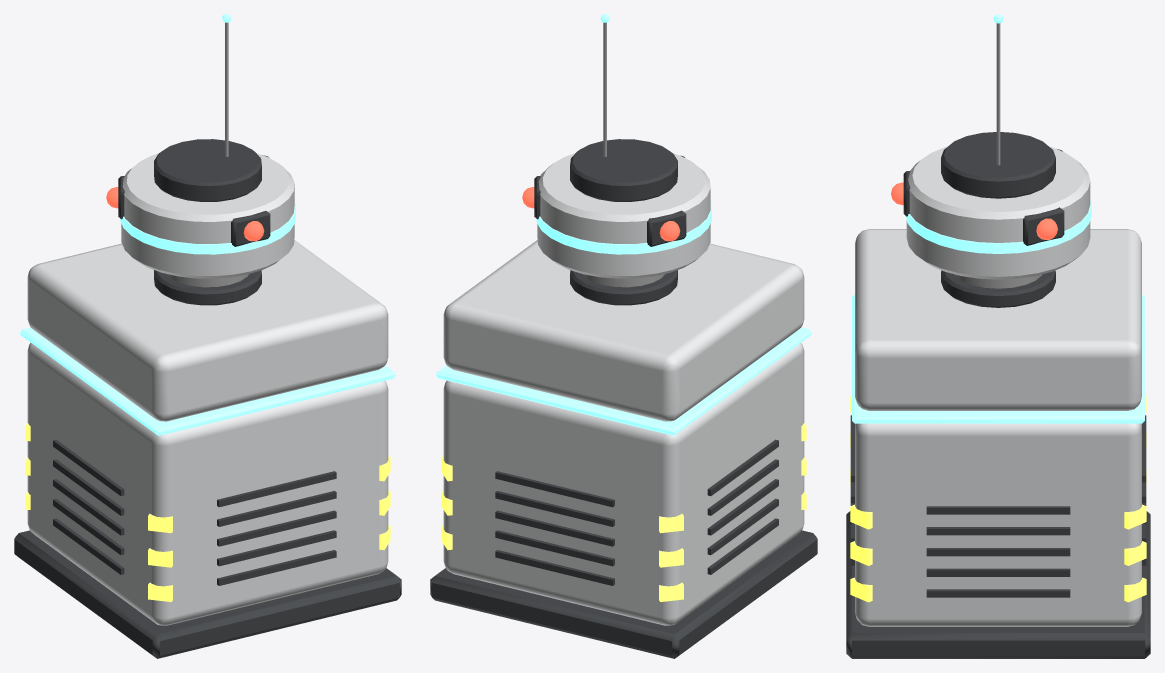
File: pylon.glb
3 renders of one model, left to right at view 1: azimuth 30°, elevation 25°; view 2: azimuth 150°, elevation 25°; view 3: azimuth 270°, elevation 25°, orthographic. The views are drawn at different scales.
Visible parts, largest first — view 1: core, sensor; view 2: core, sensor; view 3: core, sensor.
Part boxes in pixels (box(x1,y1,x2,y2)): core: box(14, 240, 401, 658); sensor: box(106, 14, 295, 278); core: box(430, 240, 817, 658); sensor: box(522, 14, 711, 278); core: box(846, 229, 1150, 658); sensor: box(891, 14, 1091, 279).
Size of the model in its own units: 1.06 by 2.28 by 1.06.
